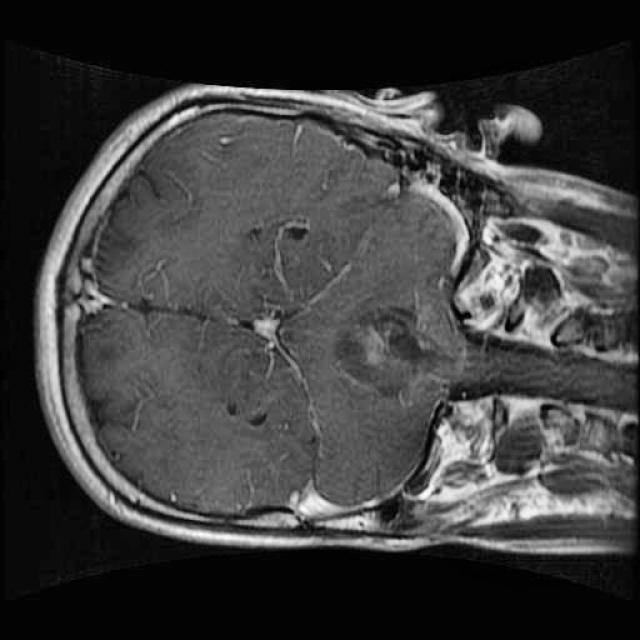Non-Tumor: (325, 291, 458, 405)
